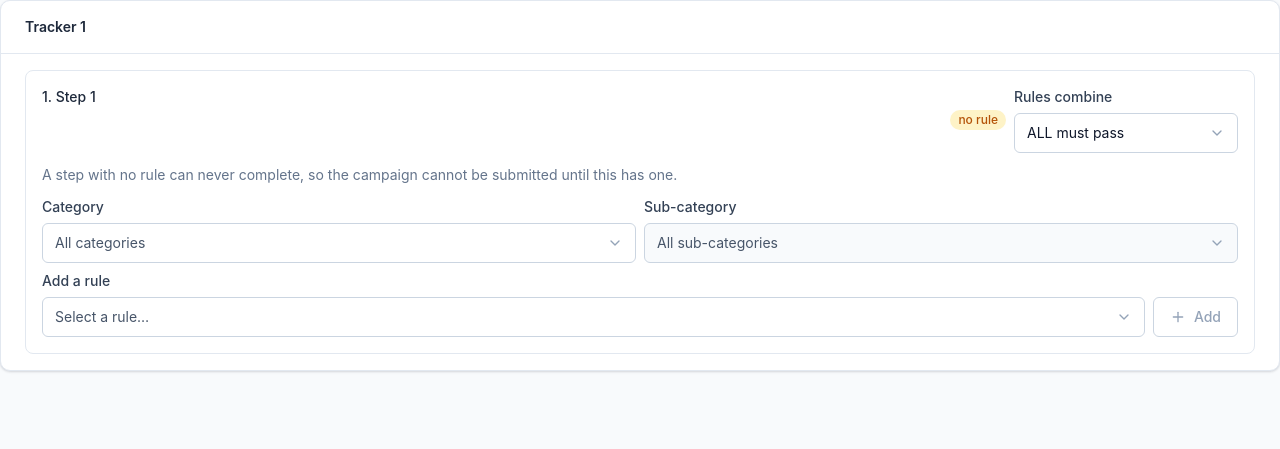
Test: ComponentRulesStep — Add-a-rule category/sub-category filter (T-112) › TC-3: clearing the category filter (re-selecting "All categories") returns the full rule list
Click the dropdown named "category" at [100, 242], box [42, 223, 636, 263]
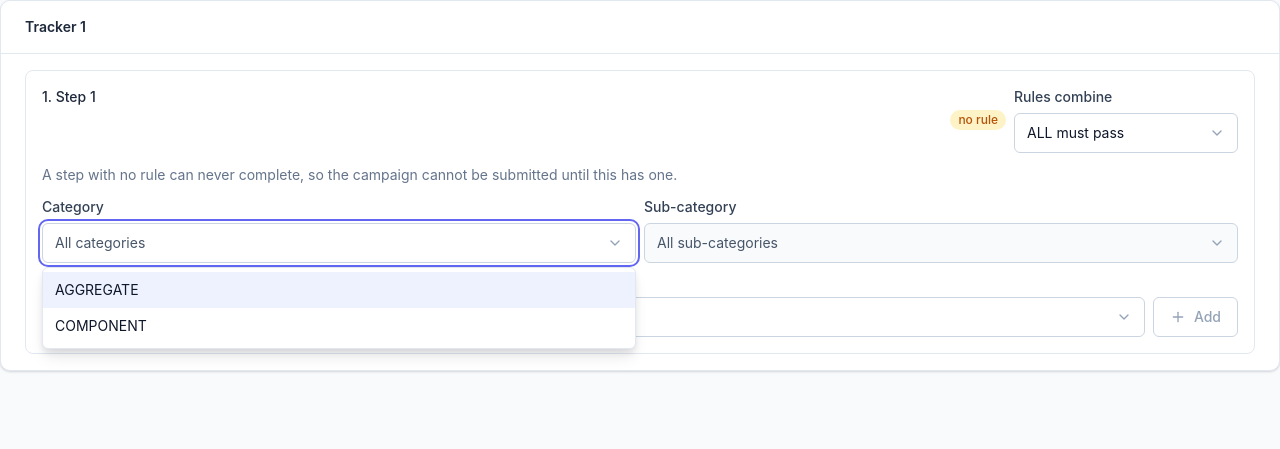
Click the option "COMPONENT" at [101, 326], box [55, 317, 147, 334]
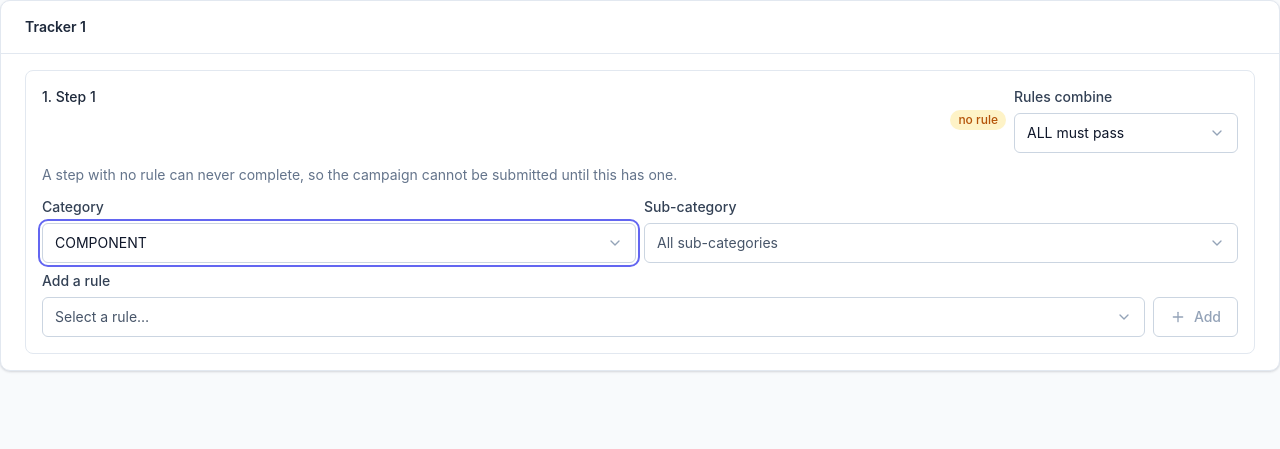
Click the dropdown named "add a rule" at [102, 316], box [42, 297, 1145, 337]
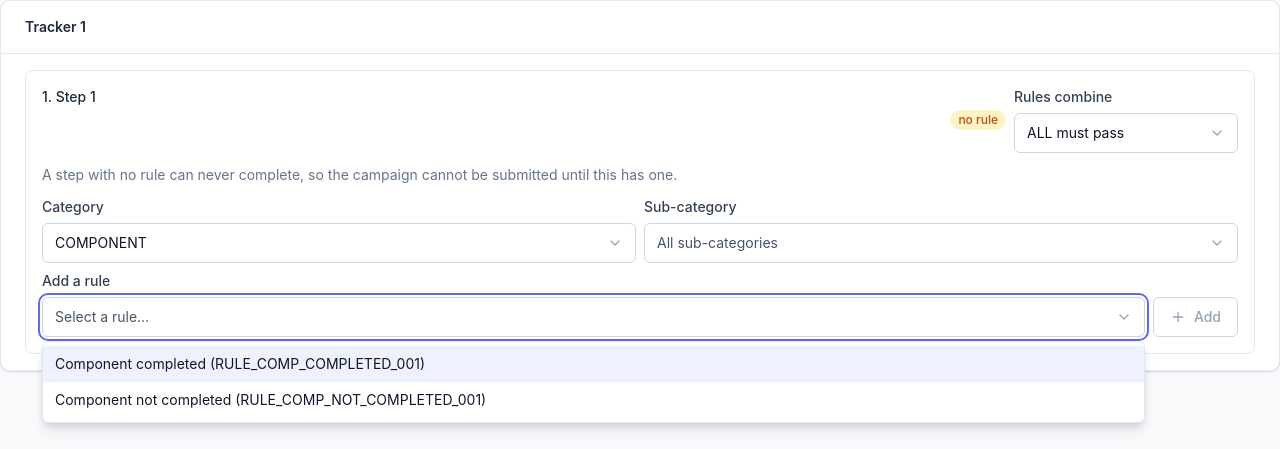
expect the option "Minimum aggregate spend" is not shown: met
Click the dropdown named "category" at [101, 242], box [42, 223, 636, 263]
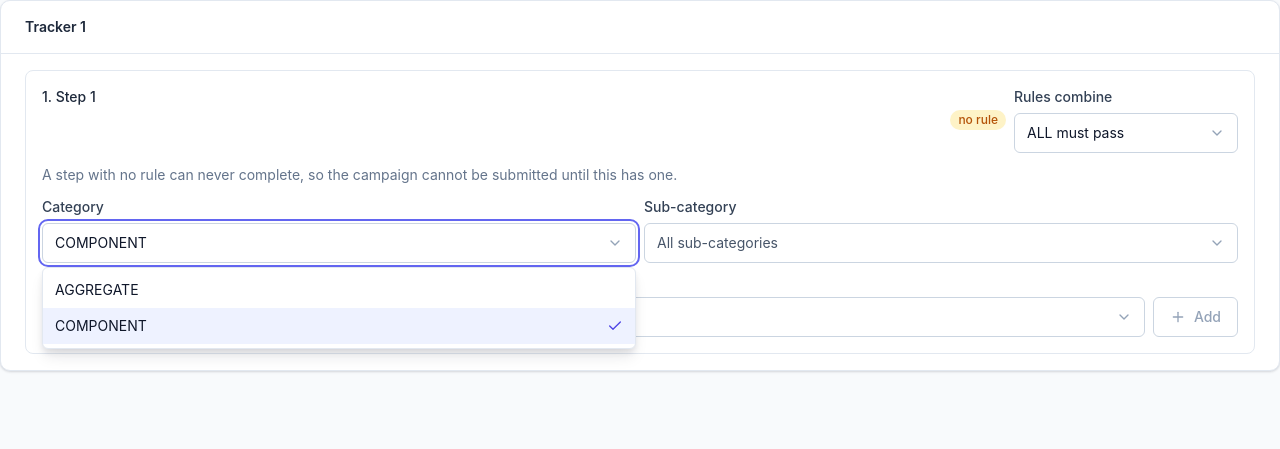
Click the option "AGGREGATE" at [97, 290], box [55, 281, 139, 298]
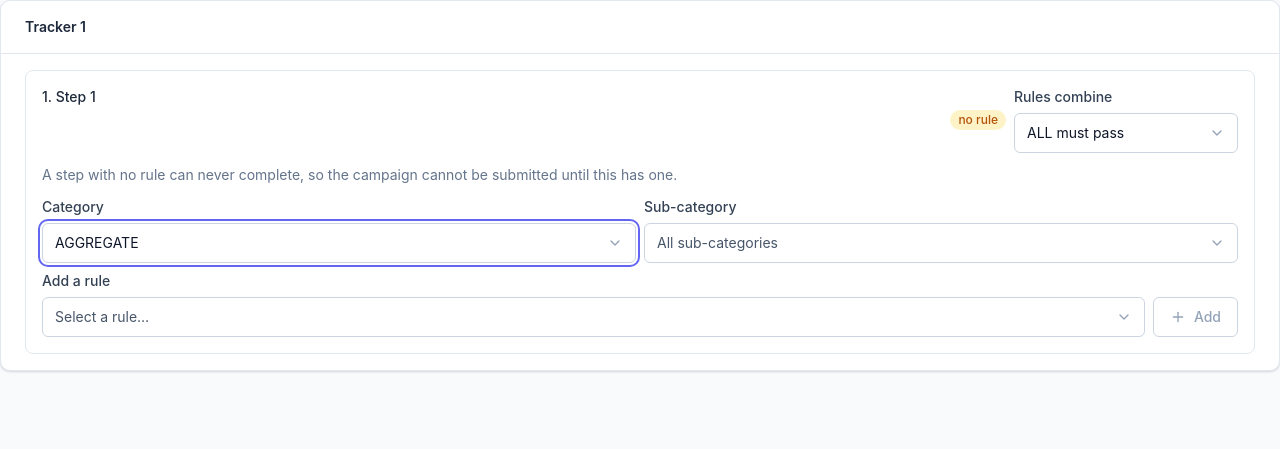
Click the dropdown named "add a rule" at [102, 316], box [42, 297, 1145, 337]
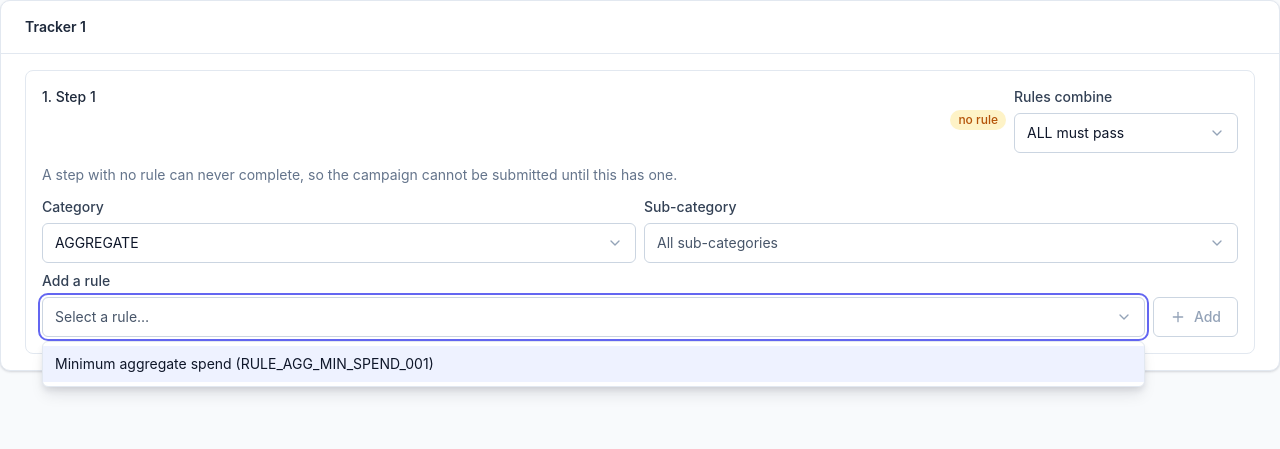
expect the option "Component completed" is not shown: met
expect the option "Minimum aggregate spend (RULE_AGG_MIN_SPEND_001)" is shown: met, box [43, 346, 1144, 382]
